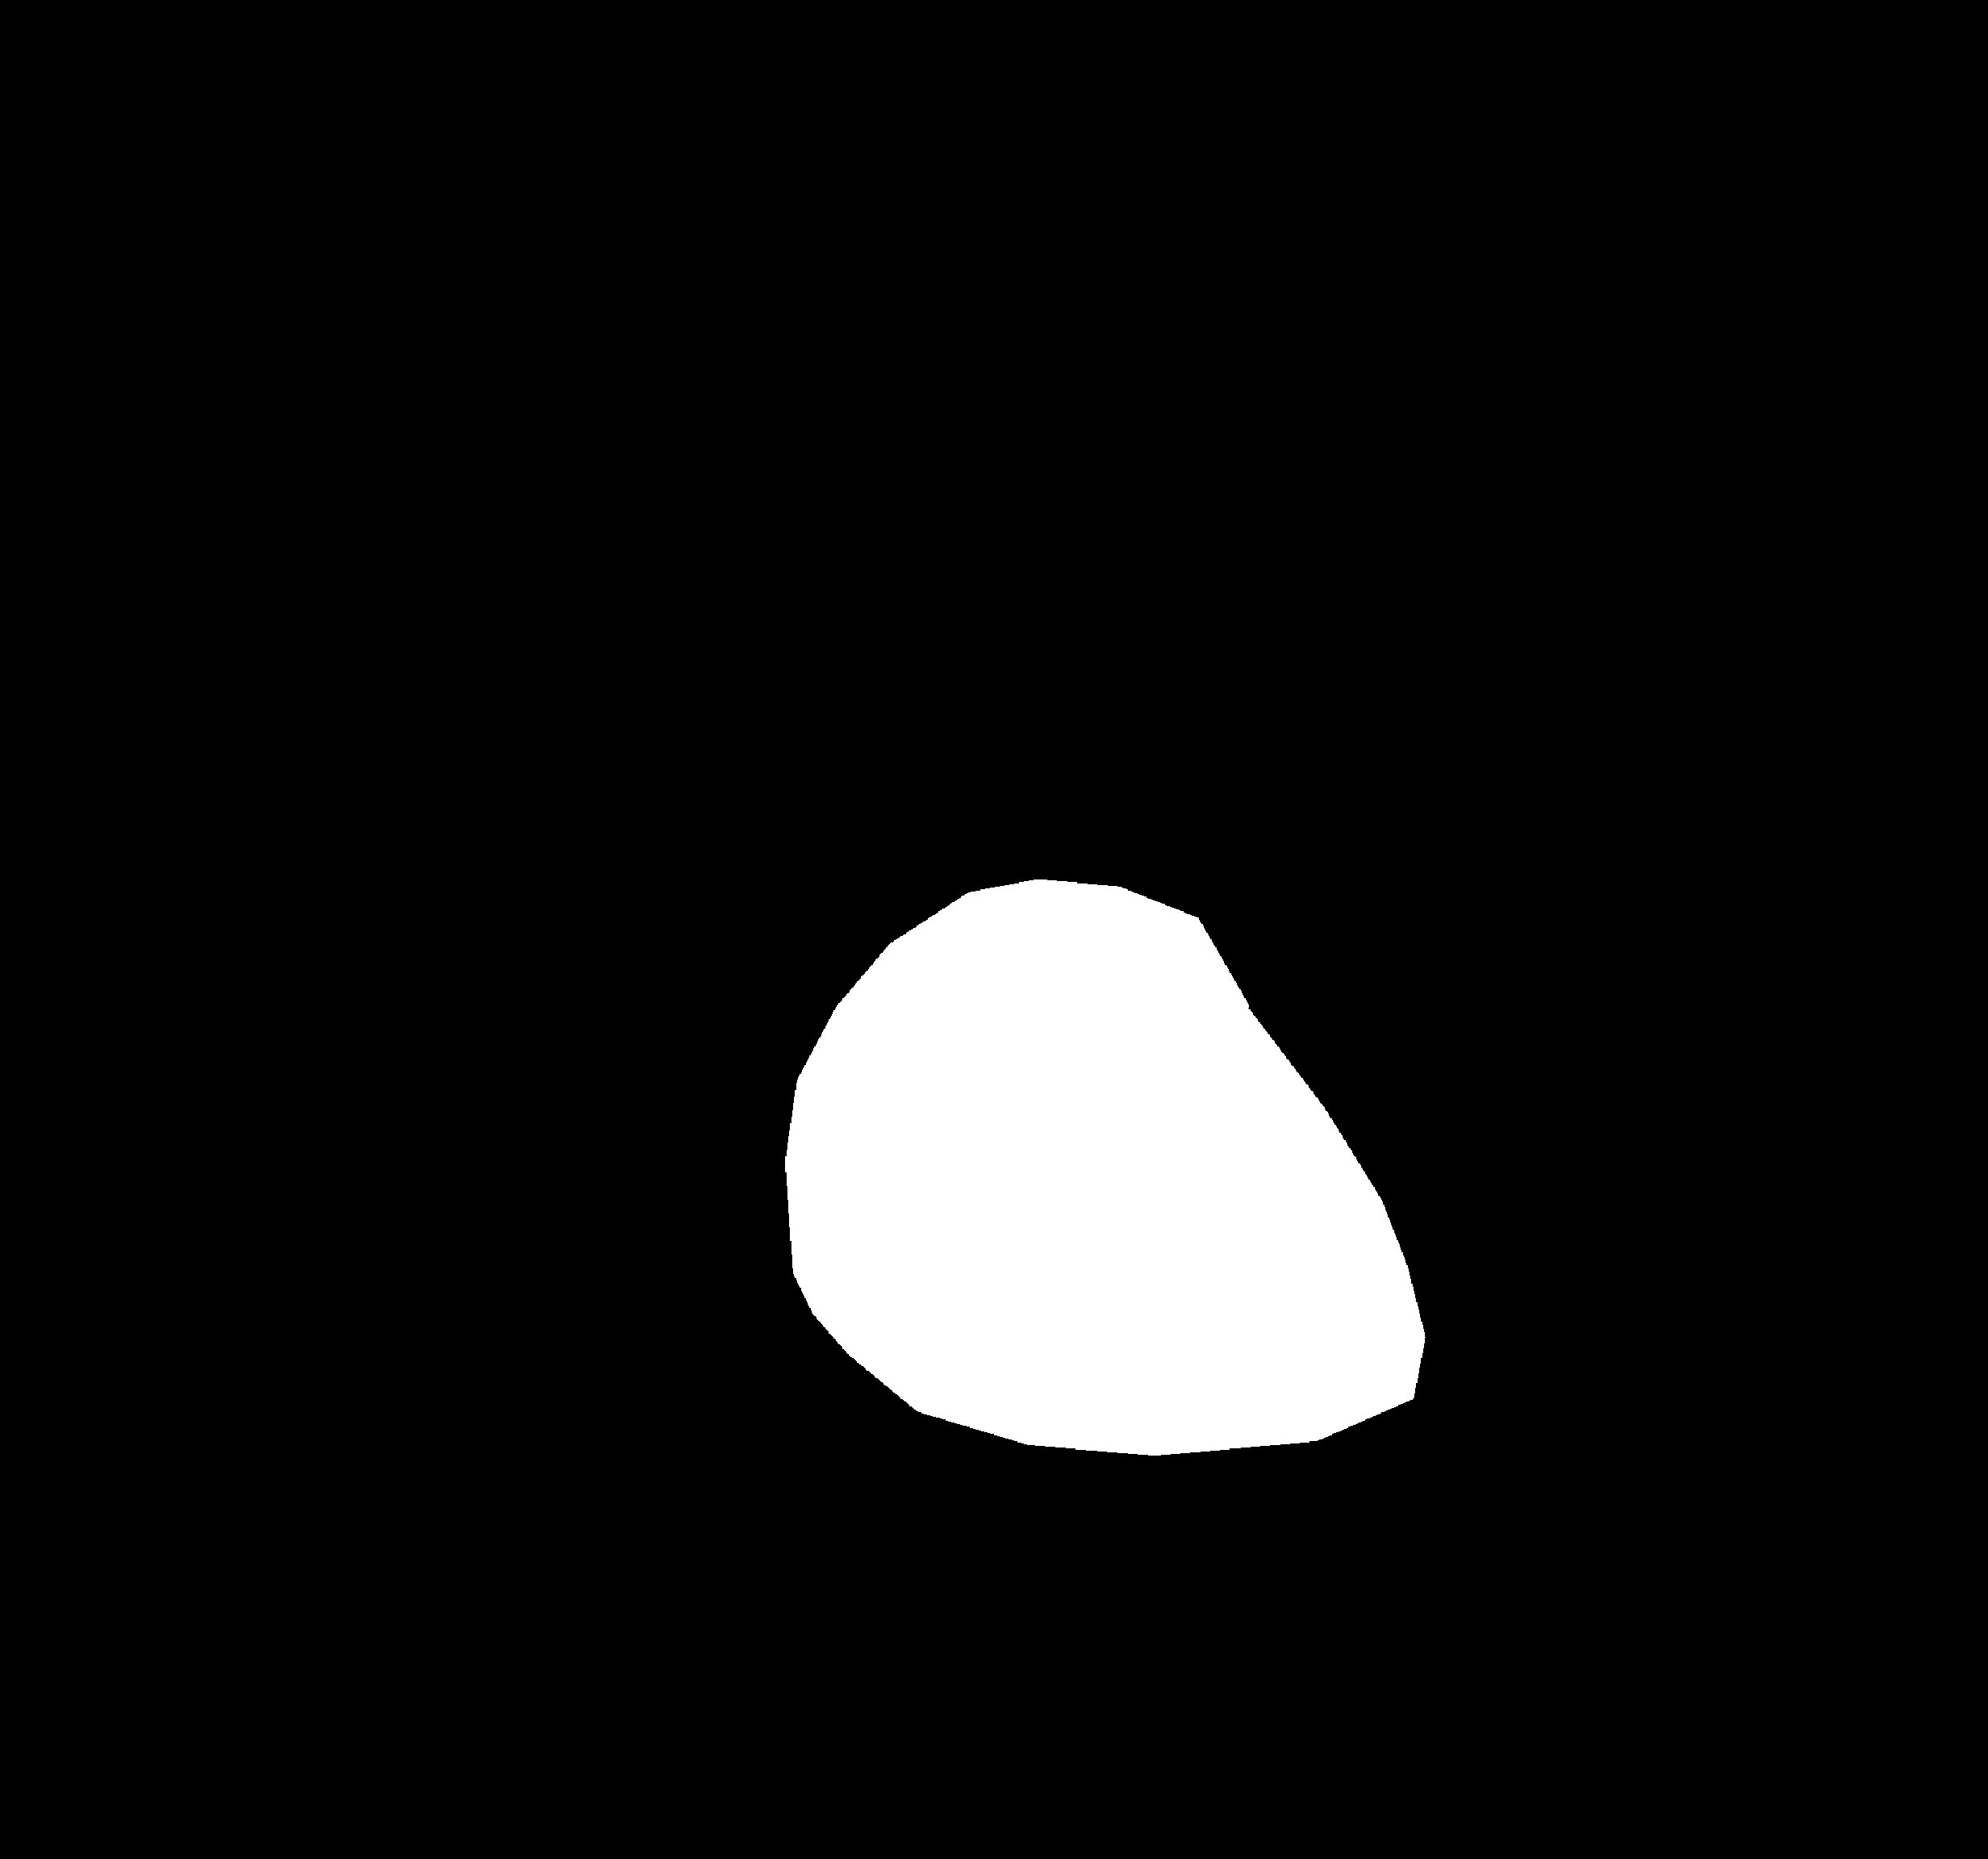heart: (728, 881, 1424, 1478)
left_lung: (203, 196, 907, 1539)
right_lung: (1067, 201, 1735, 1550)
